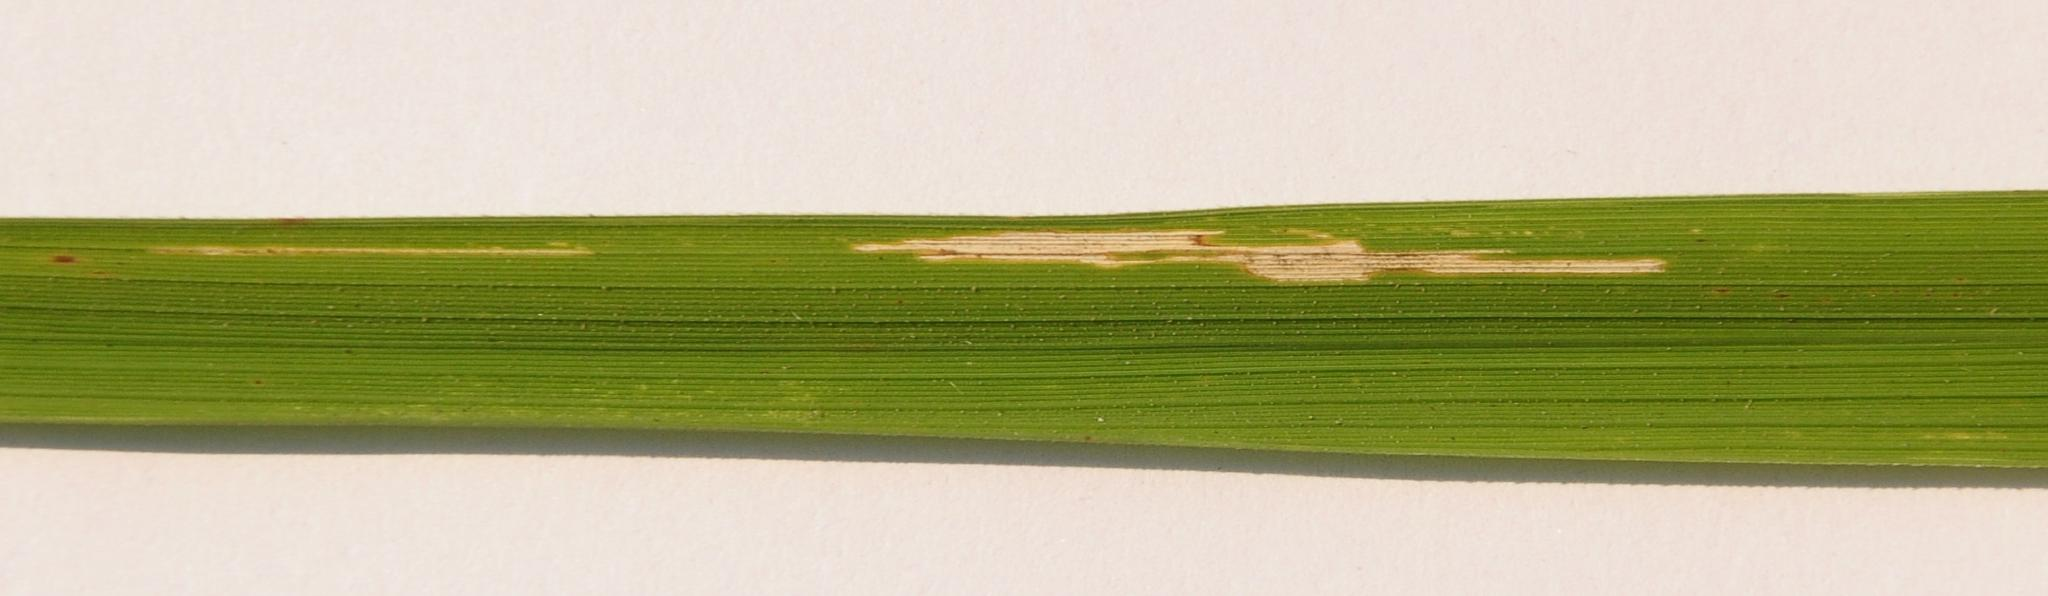2 BacterialBlight: (118, 190, 1744, 344)
